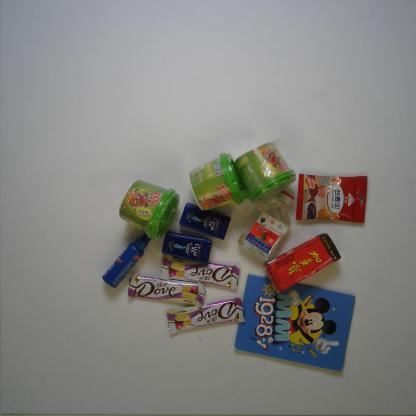Alcohol: (237, 188, 295, 262)
Chocolate: (159, 253, 241, 291), (126, 272, 207, 309), (165, 297, 246, 334)
Drink: (261, 231, 343, 294)
Instant Drink: (117, 178, 181, 242), (233, 140, 296, 205), (293, 172, 369, 224), (187, 151, 247, 212)
Personal Hygiene: (101, 231, 152, 289), (178, 202, 233, 242), (160, 229, 213, 264)
Stationery: (232, 272, 356, 374)
